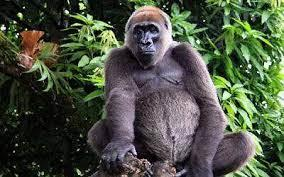gorille_Autres: (93, 0, 258, 177)
